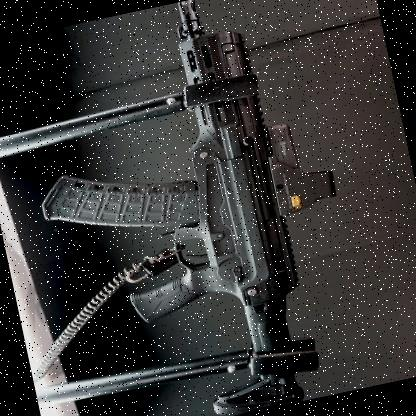rifle: (4, 0, 387, 416)
